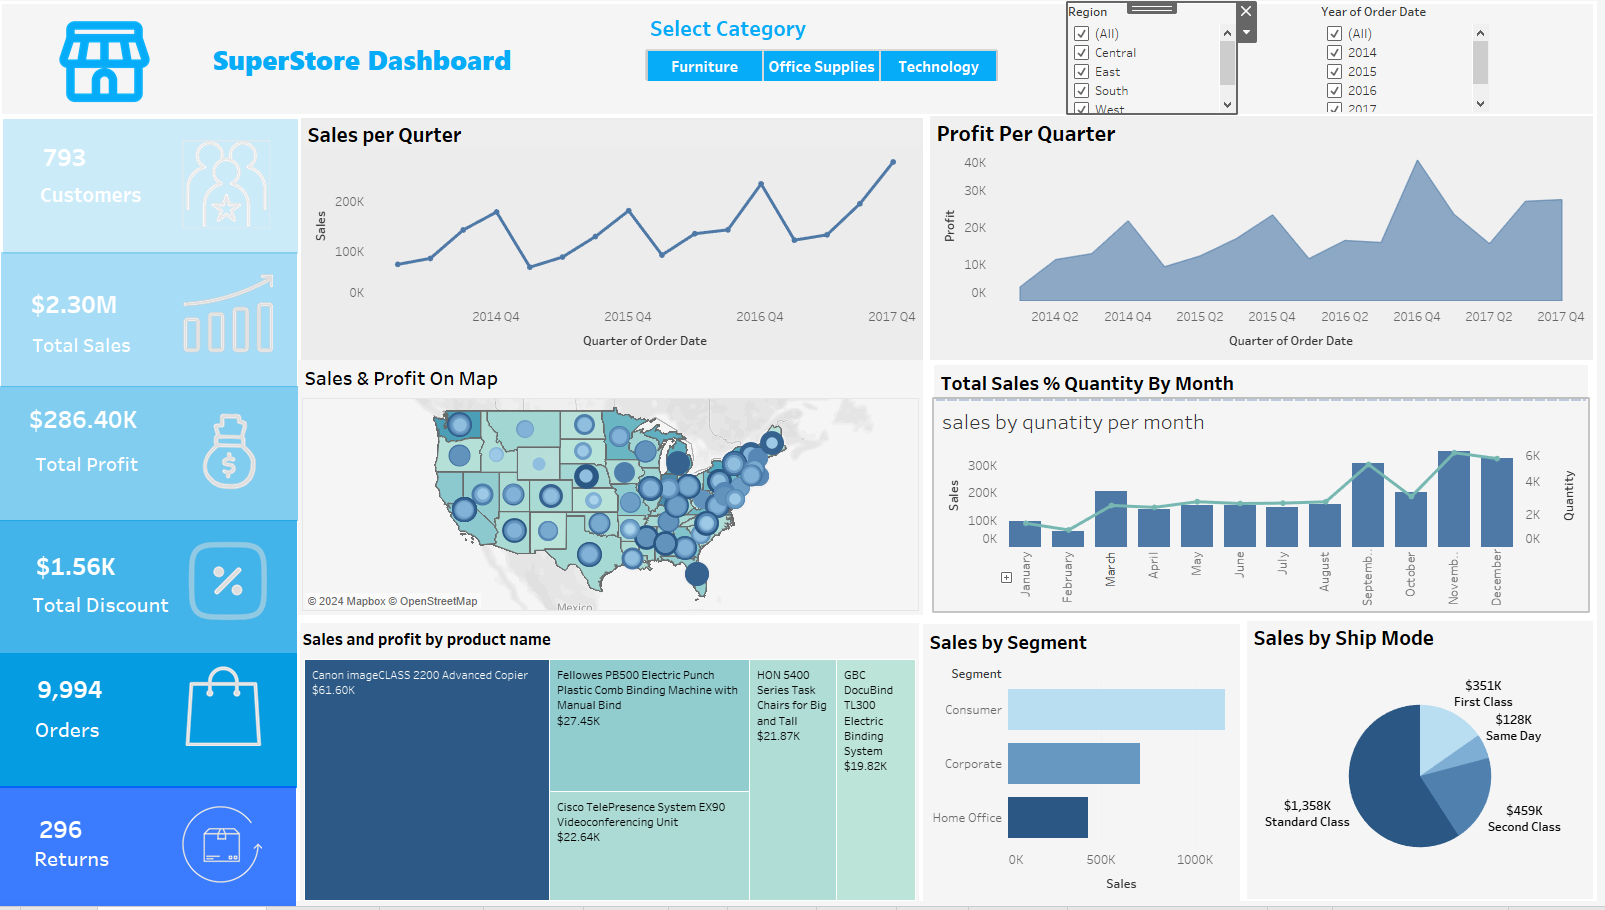

The page's visual inventory and layout, read from the dashboard file:
{"tool":"tableau","page":{"name":"Super Store Dashboard ","canvas":[1600,900],"ordinal":1},"visuals":[{"type":"filter","title":"Create Map Viz with tooltip visualization shows profit , sales for each region anduse the map as filter","param":"[federated.0pwbx9q0sy8cwp1ei2jrl0nwrmjm].[none:Region:nk]","box":[1071,2,168,110]},{"type":"filter","title":"SALES peR Q","param":"[federated.0pwbx9q0sy8cwp1ei2jrl0nwrmjm].[yr:Order Date:ok]","box":[1324,2,168,109]},{"type":"image","param":"C:/Users/midoel3ila/Downloads/store-svgrepo-com (2).png","box":[5,3,204,110]},{"type":"text","box":[209,3,1387,110]},{"type":"blank","box":[8,8,1584,884]},{"type":"text","box":[646,8,170,38]},{"type":"worksheet","title":"category Slicer ","mark":"Automatic","cols":["Category"],"box":[648,48,532,32]},{"type":"text","box":[933,115,663,33]},{"type":"text","box":[304,117,622,31]},{"type":"text","box":[6,118,295,107]},{"type":"worksheet","title":"count c no ","mark":"Automatic","box":[42,138,135,41]},{"type":"image","param":"C:/Users/midoel3ila/Downloads/key-users-svgrepo-com (1).png","box":[185,139,88,97]},{"type":"worksheet","title":"SALES peR Q","mark":"Automatic","rows":["Sales"],"cols":["Order Date"],"box":[304,148,622,211]},{"type":"worksheet","title":"Profit Per Q","mark":"Area","rows":["Profit"],"cols":["Order Date"],"box":[933,148,663,211]},{"type":"text","box":[4,251,296,111]},{"type":"image","param":"C:/Users/midoel3ila/Downloads/sales-amount-svgrepo-com (1).png","box":[186,267,90,107]},{"type":"worksheet","title":"Total sales ","mark":"Automatic","box":[30,273,194,59]},{"type":"text","box":[301,359,625,34]},{"type":"text","box":[937,364,654,34]},{"type":"text","box":[3,385,298,103]},{"type":"worksheet","title":"Create Map Viz with tooltip visualization shows profit , sales for each region anduse the map as filter","mark":"Automatic","box":[301,393,625,221]},{"type":"worksheet","title":"sales by qunatity per month ","mark":"Bar","rows":["Sales","Quantity"],"cols":["Order Date"],"box":[937,398,654,212]},{"type":"worksheet","title":"Total Profit ","mark":"Automatic","box":[28,400,143,35]},{"type":"image","param":"C:/Users/midoel3ila/Downloads/profit-svgrepo-com (1).png","box":[189,407,86,93]},{"type":"image","param":"C:/Users/midoel3ila/Downloads/sale-square-svgrepo-com.png","box":[187,536,87,94]},{"type":"worksheet","title":"Total Discount ","mark":"Automatic","box":[35,547,129,41]},{"type":"text","box":[11,551,189,78]},{"type":"text","box":[1250,620,346,32]},{"type":"text","box":[303,622,619,32]},{"type":"text","box":[926,623,317,34]},{"type":"worksheet","title":"sales category ","mark":"Pie","box":[1250,652,346,246]},{"type":"worksheet","title":"Sales and profit by product name","mark":"Automatic","box":[303,654,619,250]},{"type":"worksheet","title":"sales of segmnet ","mark":"Automatic","rows":["Segment"],"cols":["Sales"],"box":[926,657,317,245]},{"type":"image","param":"C:/Users/midoel3ila/Downloads/order-svgrepo-com (1).png","box":[186,665,80,88]},{"type":"worksheet","title":"Total Orders","mark":"Automatic","box":[36,670,143,48]},{"type":"text","box":[0,785,299,109]},{"type":"image","param":"C:/Users/midoel3ila/Downloads/return-box-cycle-svgrepo-com.png","box":[185,803,86,80]},{"type":"worksheet","title":"Returns","mark":"Automatic","box":[38,810,113,39]}]}

Visuals, with their boxes in screenshot pixels (x1, y1, x2, y2), scaled from the page's 1600x900 canvas onto the 1605x910 screenshot:
"Create Map Viz with tooltip visualization shows profit , sales for each region anduse the map as filter" filter: x1=1074, y1=2, x2=1243, y2=113
"SALES peR Q" filter: x1=1328, y1=2, x2=1497, y2=112
image: x1=5, y1=3, x2=210, y2=114
text: x1=210, y1=3, x2=1601, y2=114
blank: x1=8, y1=8, x2=1597, y2=902
text: x1=648, y1=8, x2=819, y2=47
"category Slicer " worksheet: x1=650, y1=49, x2=1184, y2=81
text: x1=936, y1=116, x2=1601, y2=150
text: x1=305, y1=118, x2=929, y2=150
text: x1=6, y1=119, x2=302, y2=228
"count c no " worksheet: x1=42, y1=140, x2=178, y2=181
image: x1=186, y1=141, x2=274, y2=239
"SALES peR Q" worksheet: x1=305, y1=150, x2=929, y2=363
"Profit Per Q" worksheet (Area marks): x1=936, y1=150, x2=1601, y2=363
text: x1=4, y1=254, x2=301, y2=366
image: x1=187, y1=270, x2=277, y2=378
"Total sales " worksheet: x1=30, y1=276, x2=225, y2=336
text: x1=302, y1=363, x2=929, y2=397
text: x1=940, y1=368, x2=1596, y2=402
text: x1=3, y1=389, x2=302, y2=493
"Create Map Viz with tooltip visualization shows profit , sales for each region anduse the map as filter" worksheet: x1=302, y1=397, x2=929, y2=621
"sales by qunatity per month " worksheet (Bar marks): x1=940, y1=402, x2=1596, y2=617
"Total Profit " worksheet: x1=28, y1=404, x2=172, y2=440
image: x1=190, y1=412, x2=276, y2=506
image: x1=188, y1=542, x2=275, y2=637
"Total Discount " worksheet: x1=35, y1=553, x2=165, y2=595
text: x1=11, y1=557, x2=201, y2=636
text: x1=1254, y1=627, x2=1601, y2=659
text: x1=304, y1=629, x2=925, y2=661
text: x1=929, y1=630, x2=1247, y2=664
"sales category " worksheet (Pie marks): x1=1254, y1=659, x2=1601, y2=908
"Sales and profit by product name" worksheet: x1=304, y1=661, x2=925, y2=909
"sales of segmnet " worksheet: x1=929, y1=664, x2=1247, y2=909
image: x1=187, y1=672, x2=267, y2=761
"Total Orders" worksheet: x1=36, y1=677, x2=180, y2=726
text: x1=0, y1=794, x2=300, y2=904
image: x1=186, y1=812, x2=272, y2=893
"Returns" worksheet: x1=38, y1=819, x2=151, y2=858
